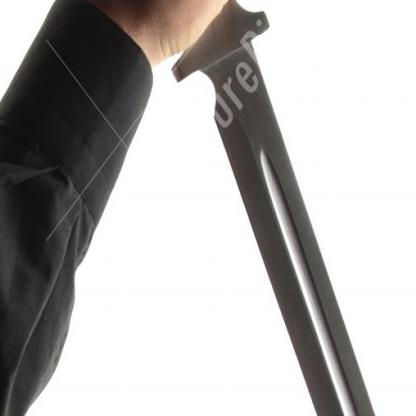knife: (156, 0, 416, 415)
